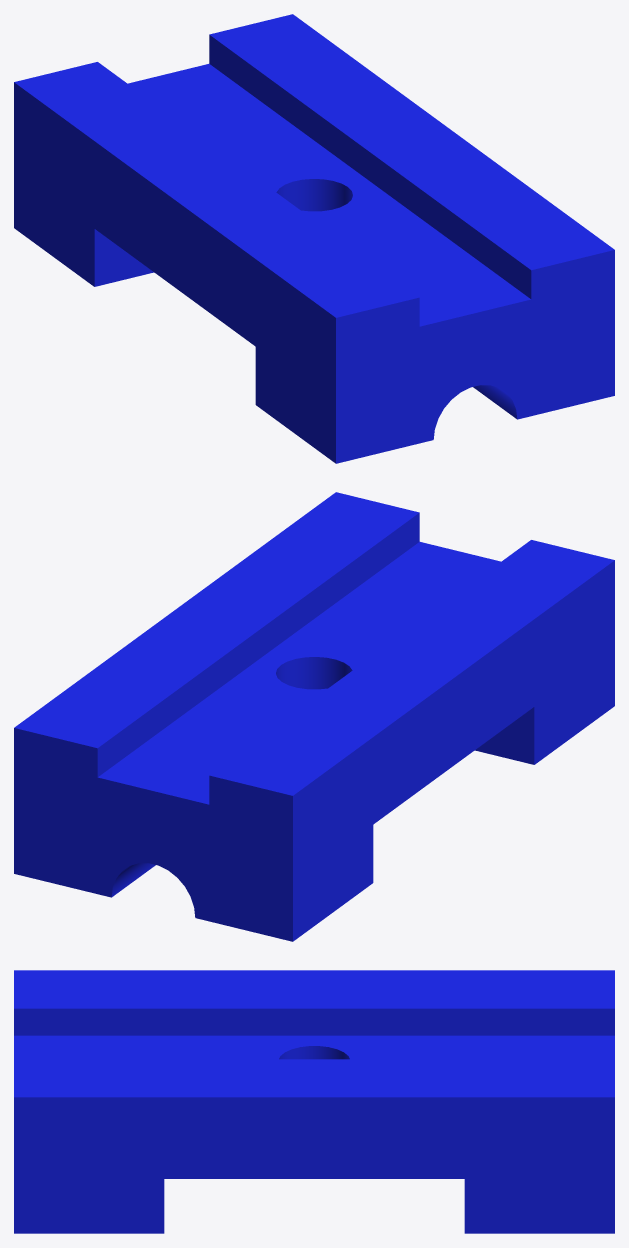
File: asset.glb
3 views of the same model, one above another, from view 1: azimuth 30°, elevation 25°; view 2: azimuth 150°, elevation 25°; view 3: azimuth 270°, elevation 25° (orthographic). The views are drawn at different scales.
Parts seen in each view (by area): view 1: Solid1; view 2: Solid1; view 3: Solid1.
Boxes of the visible parts, <box> form: Solid1: <box>14,14,614,463</box>; Solid1: <box>14,492,614,941</box>; Solid1: <box>14,970,614,1233</box>.
Bounding box in the file's own units: 0.05 × 0.025 × 0.1.
